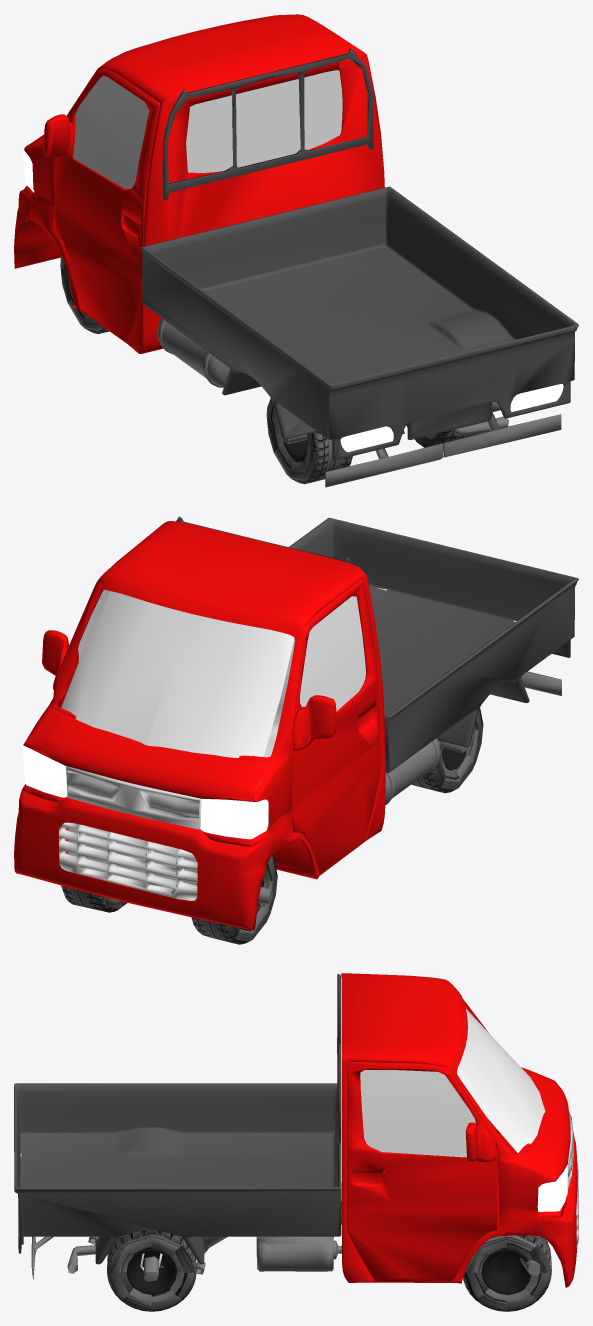
Rendered from minitruck.glb.
3 views of the same model, one above another, from view 1: azimuth 30°, elevation 25°; view 2: azimuth 150°, elevation 25°; view 3: azimuth 270°, elevation 25° (orthographic). The views are drawn at different scales.
Parts seen in each view (by area): view 1: Object_15, Object_11, Object_21, Object_5, Object_106, Circle.062_62, Object_88, Circle.011_65; view 2: Object_11, Object_15, Object_21, Object_78, Object_88, Object_5, Circle.062_62, Circle.011_65, Circle.019_56, Object_7; view 3: Object_15, Object_11, Object_21, Object_5, Circle.022_59, Circle.019_56, Circle.021_57, Circle.032_60, Object_88, Object_106, Object_78.
Boxes of the visible parts, x1,y1,x2,y2 form: Object_15: (140,186,578,460); Object_11: (14,14,384,353); Object_21: (73,70,342,189); Object_5: (157,318,561,487); Object_106: (162,48,373,199); Circle.062_62: (266,398,352,483); Object_88: (23,151,563,451); Circle.011_65: (60,255,109,333); Object_11: (14,521,385,930); Object_15: (289,517,578,772); Object_21: (61,589,365,757); Object_78: (59,638,295,900); Object_88: (23,588,516,839); Object_5: (258,671,561,904); Circle.062_62: (411,708,483,793); Circle.011_65: (191,855,277,944); Circle.019_56: (61,885,126,912); Object_7: (68,829,196,885); Object_15: (14,1083,341,1264); Object_11: (341,973,577,1287); Object_21: (140,1009,545,1270); Object_5: (31,1201,540,1281); Circle.022_59: (107,1230,196,1311); Circle.019_56: (463,1229,551,1311); Circle.021_57: (481,1249,531,1294); Circle.032_60: (126,1248,177,1294); Object_88: (20,1153,567,1211); Object_106: (337,974,341,1143); Object_78: (567,1112,578,1247).
Bounding box in the file's own units: 2.42 × 2.48 × 4.71.
Materials: 11 (1 with a texture image).
